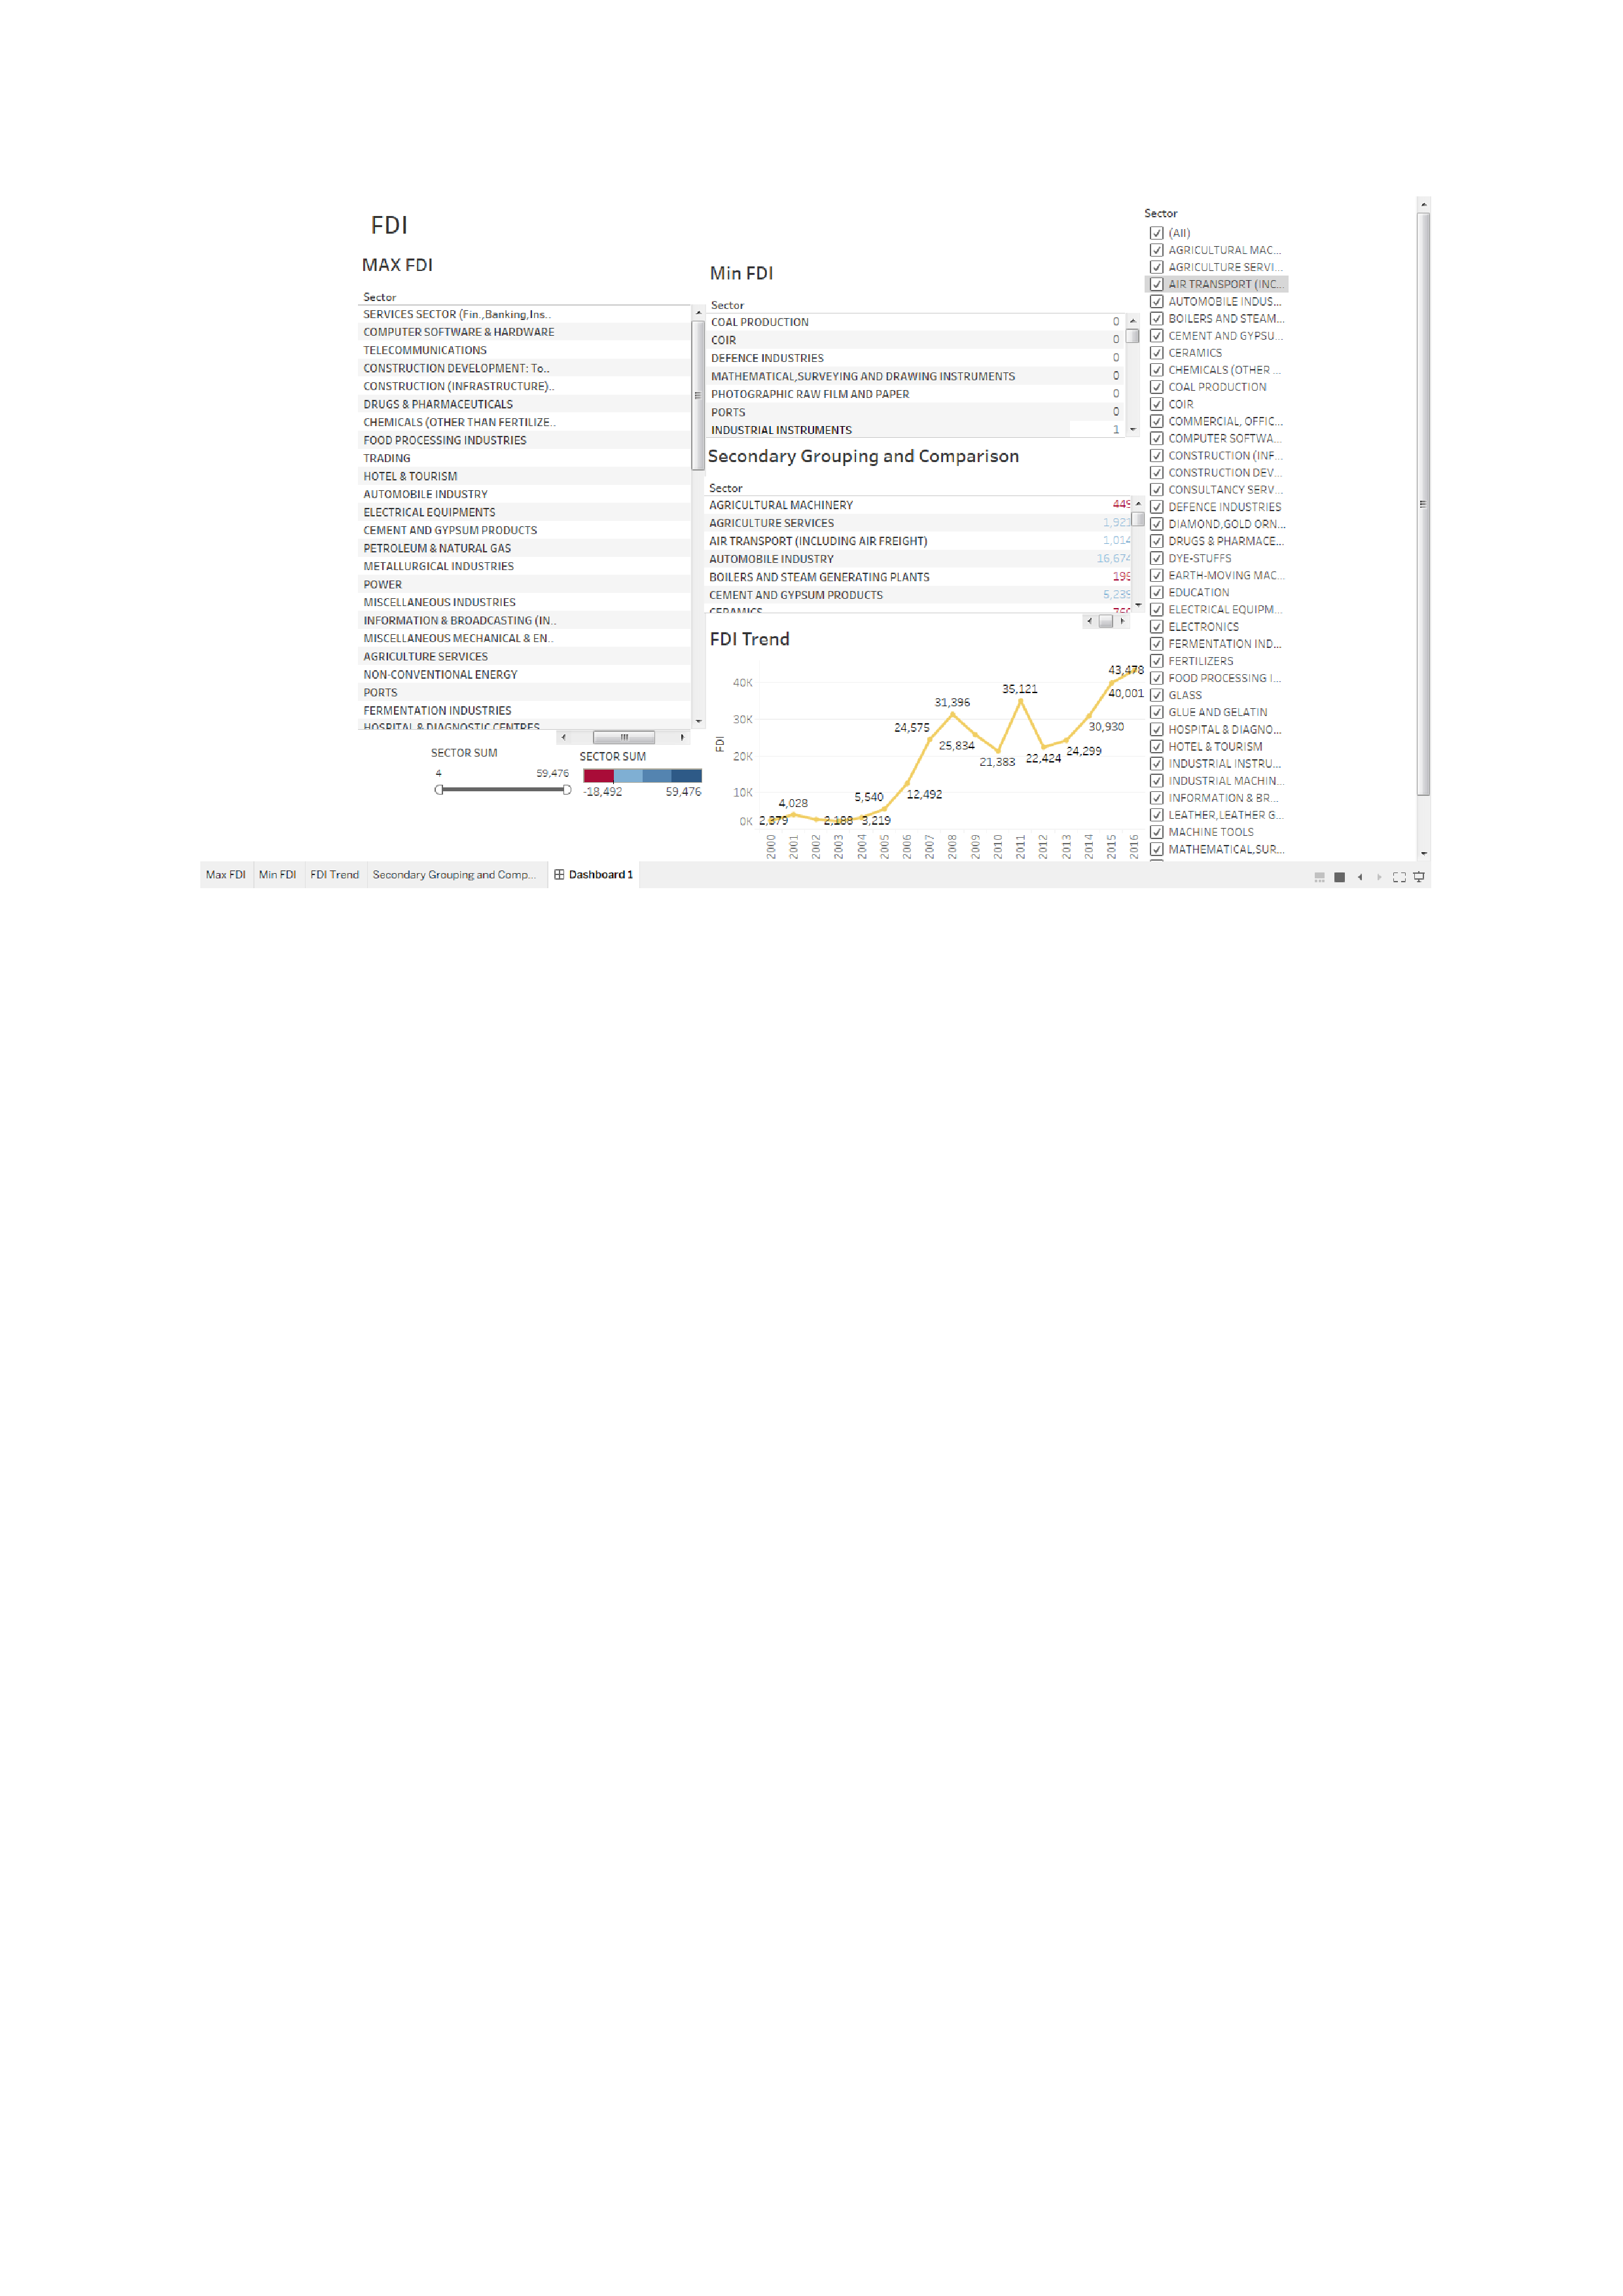

Layout of this report page (visuals, bound fields, positions):
{"tool":"tableau","page":{"name":"Dashboard 1","canvas":[1000,800],"ordinal":0},"visuals":[{"type":"title","box":[8,8,984,45]},{"type":"worksheet","title":"Max FDI","mark":"Automatic","rows":["Sector"],"box":[1,57,386,552]},{"type":"worksheet","title":"Min FDI","mark":"Automatic","rows":["Sector"],"box":[387,66,495,202]},{"type":"worksheet","title":"Secondary Grouping and Comparison","mark":"Automatic","rows":["Sector"],"box":[385,269,490,211]},{"type":"worksheet","title":"FDI Trend","mark":"Line","rows":["Pivot Field Values"],"cols":["Pivot Field Names - Split 1"],"box":[387,472,488,270]},{"type":"filter","title":"Secondary Grouping and Comparison","param":"[federated.0s8z05c0az2lvy1etonel1tqiyt7].[usr:Calculation_879609360978505734:qk]","box":[82,609,160,61]},{"type":"legend","title":"Secondary Grouping and Comparison","param":"[federated.0s8z05c0az2lvy1etonel1tqiyt7].[usr:Calculation_879609360978505734:qk]","box":[247,613,140,76]}]}

Visuals, with their boxes on the page's 1000x800 design canvas (x1, y1, x2, y2). These are canvas units, not pixel positions in the 1623x2296 screenshot, which may show the page scaled, cropped or inside an application window:
title: l=8, t=8, r=992, b=53
"Max FDI" worksheet: l=1, t=57, r=387, b=609
"Min FDI" worksheet: l=387, t=66, r=882, b=268
"Secondary Grouping and Comparison" worksheet: l=385, t=269, r=875, b=480
"FDI Trend" worksheet (Line marks): l=387, t=472, r=875, b=742
"Secondary Grouping and Comparison" filter: l=82, t=609, r=242, b=670
"Secondary Grouping and Comparison" legend: l=247, t=613, r=387, b=689
